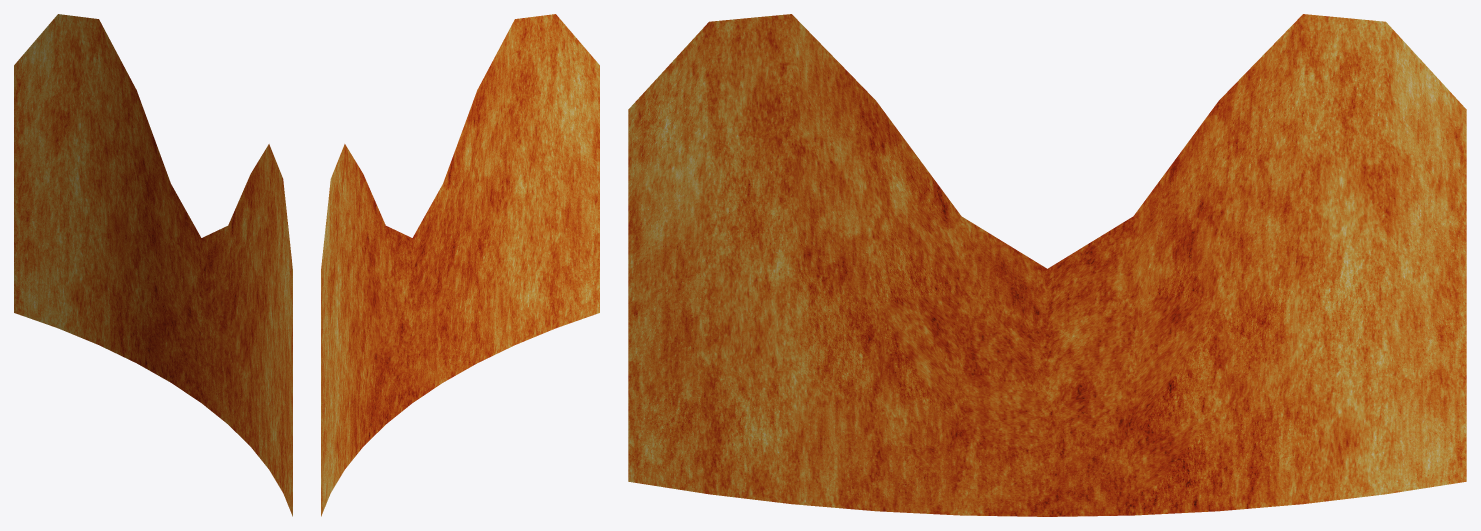
The model's file is HO_VFX_FireRing_Segment.fbx.
3 views of the same model, side by side, from view 1: azimuth 30°, elevation 25°; view 2: azimuth 150°, elevation 25°; view 3: azimuth 270°, elevation 25° (orthographic). The views are drawn at different scales.
Visible parts, largest first — view 1: HO_VFX_FireRing_Segment; view 2: HO_VFX_FireRing_Segment; view 3: HO_VFX_FireRing_Segment.
Boxes of the visible parts, left/top/right/bottom form: HO_VFX_FireRing_Segment: left=14, top=14, right=292, bottom=516; HO_VFX_FireRing_Segment: left=321, top=14, right=599, bottom=516; HO_VFX_FireRing_Segment: left=628, top=14, right=1466, bottom=516.
Bounding box in the file's own units: 0.7612 × 4.94 × 7.65.
